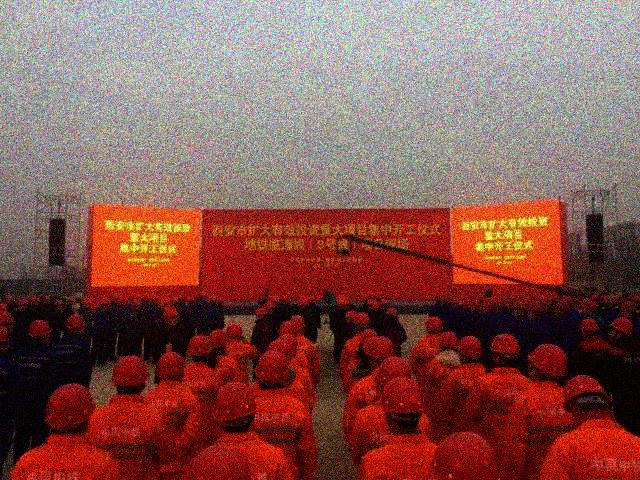helmet: (381, 373, 426, 435), (44, 384, 96, 436), (208, 379, 258, 433), (561, 371, 611, 425), (527, 342, 568, 384), (252, 349, 290, 391), (108, 355, 150, 393), (487, 332, 524, 368), (154, 350, 189, 387), (364, 335, 396, 369), (454, 334, 484, 364), (606, 316, 634, 345), (187, 333, 212, 364), (206, 328, 231, 358), (28, 318, 52, 346), (63, 311, 86, 338), (576, 316, 599, 341), (162, 303, 182, 329), (224, 322, 246, 344), (439, 330, 460, 353), (424, 315, 444, 336), (352, 309, 371, 330), (524, 302, 541, 322), (552, 301, 567, 319), (510, 300, 525, 316), (384, 306, 399, 322), (342, 308, 355, 326), (253, 307, 268, 322), (336, 296, 352, 310), (296, 298, 309, 311), (207, 294, 218, 307), (198, 290, 208, 302)
